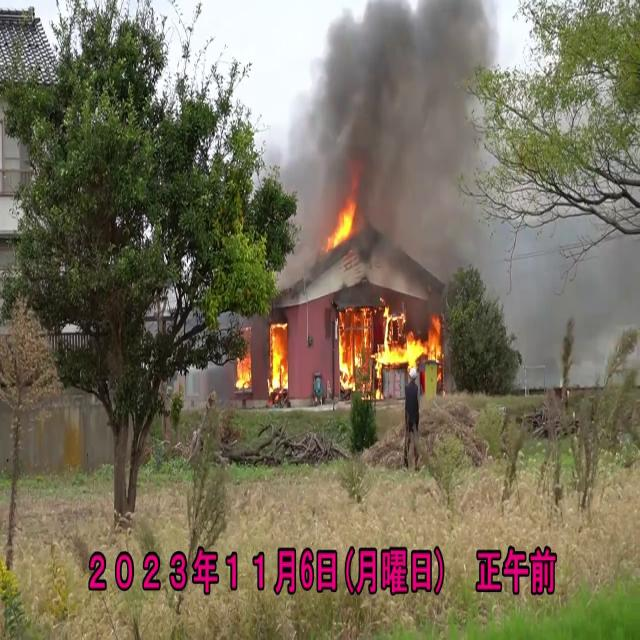Fire: (335, 292, 442, 388), (326, 190, 360, 258)
Smoke: (280, 0, 511, 284)
